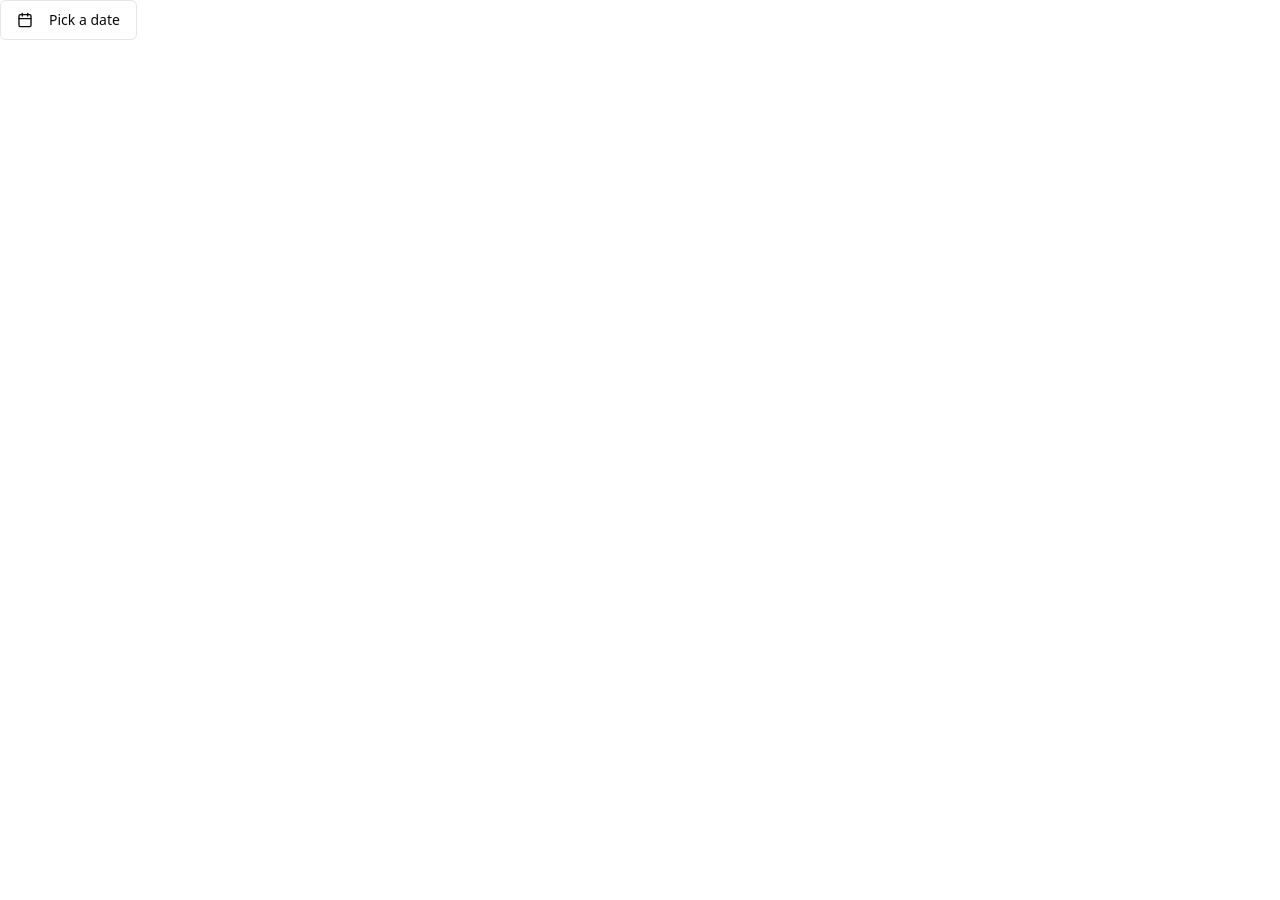
Test: DatePicker › opens popover on click (desktop)
The width and height of the screenshot is (1280, 900).
What coordinates should you click on to do the following:
click the button with test id "datepicker-trigger"
I would click on:
 (68, 20)
Its box is left=0, top=0, right=137, bottom=40.
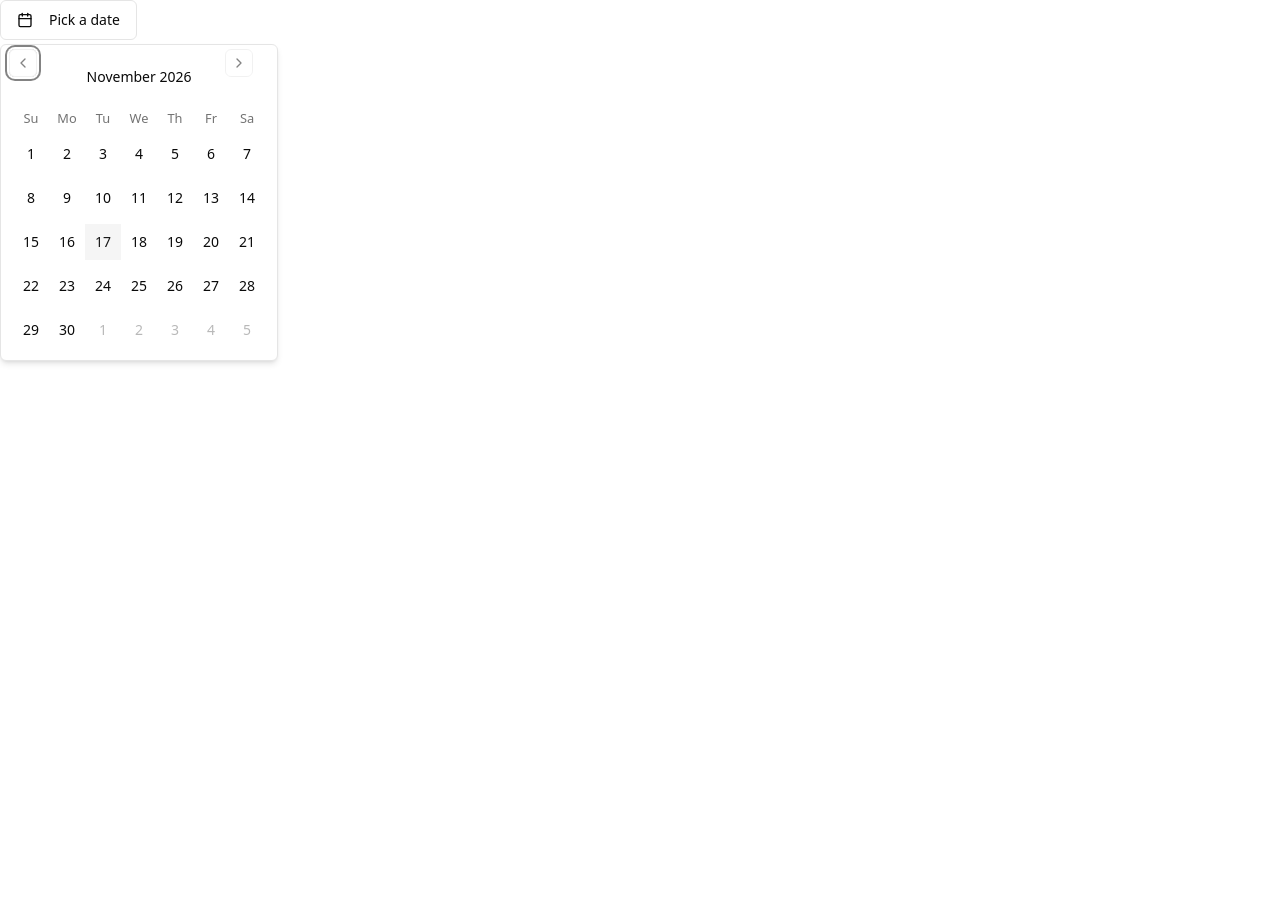
Expected: the dialog with test id "datepicker-calendar" is shown, left=0, top=44, right=278, bottom=361
Expected: the table is shown, left=13, top=109, right=265, bottom=348
